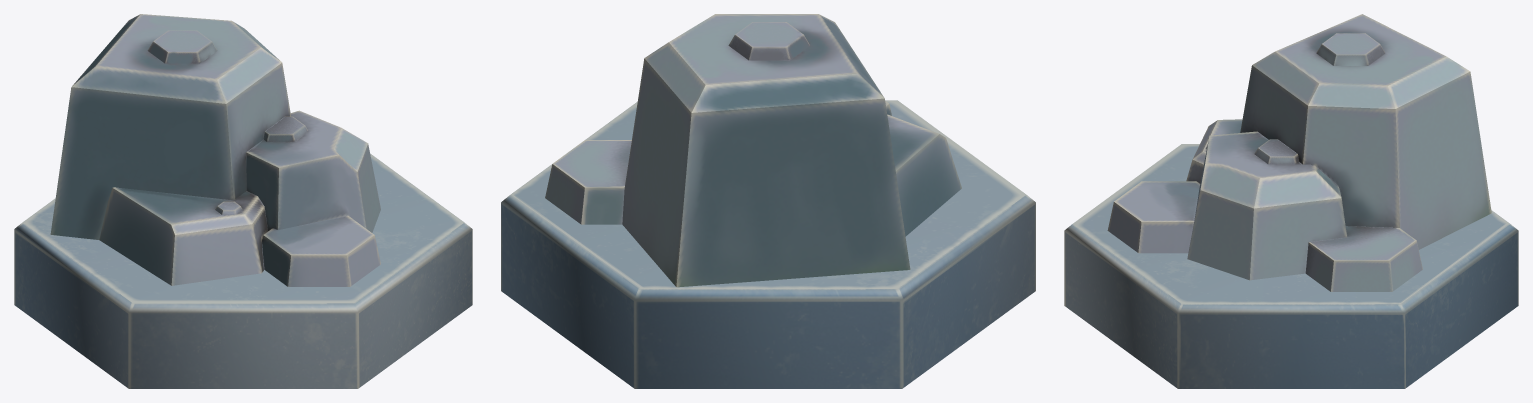
The model's file is stones2.fbx.
3 renders of one model, left to right at view 1: azimuth 30°, elevation 25°; view 2: azimuth 150°, elevation 25°; view 3: azimuth 270°, elevation 25°, orthographic. The views are drawn at different scales.
Visible parts, largest first — view 1: Stones2; view 2: Stones2; view 3: Stones2.
Boxes of the visible parts, x1,y1,x2,y2 form: Stones2: (14,14,472,388); Stones2: (501,14,1035,388); Stones2: (1064,14,1518,388).
Bounding box in the file's own units: 83.34 × 57.76 × 96.24.
2 materials, 2 textured.
